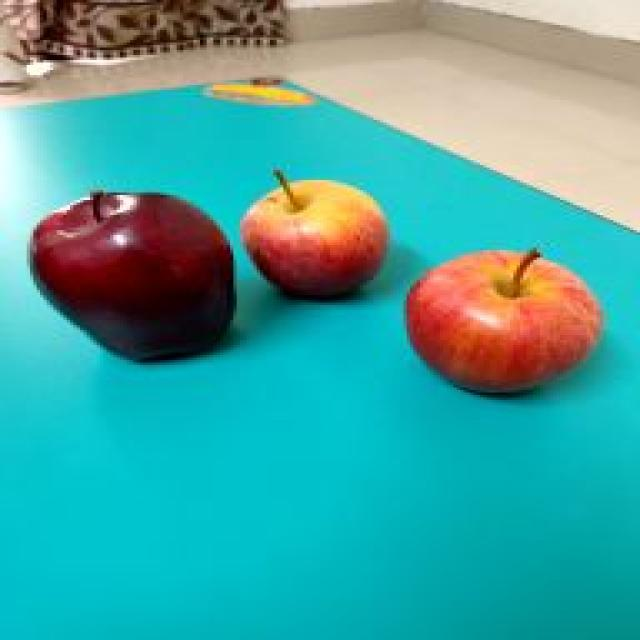Good_Apple: (27, 190, 237, 365), (403, 250, 603, 400), (240, 175, 387, 300)
